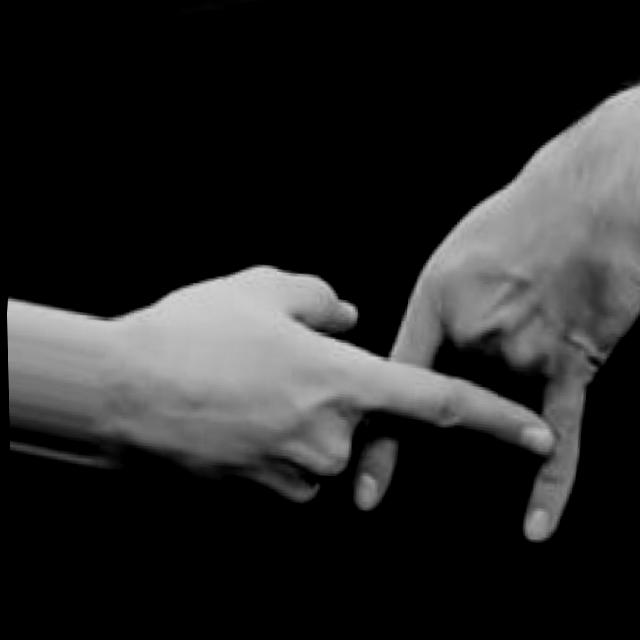H: (118, 27, 640, 559)
